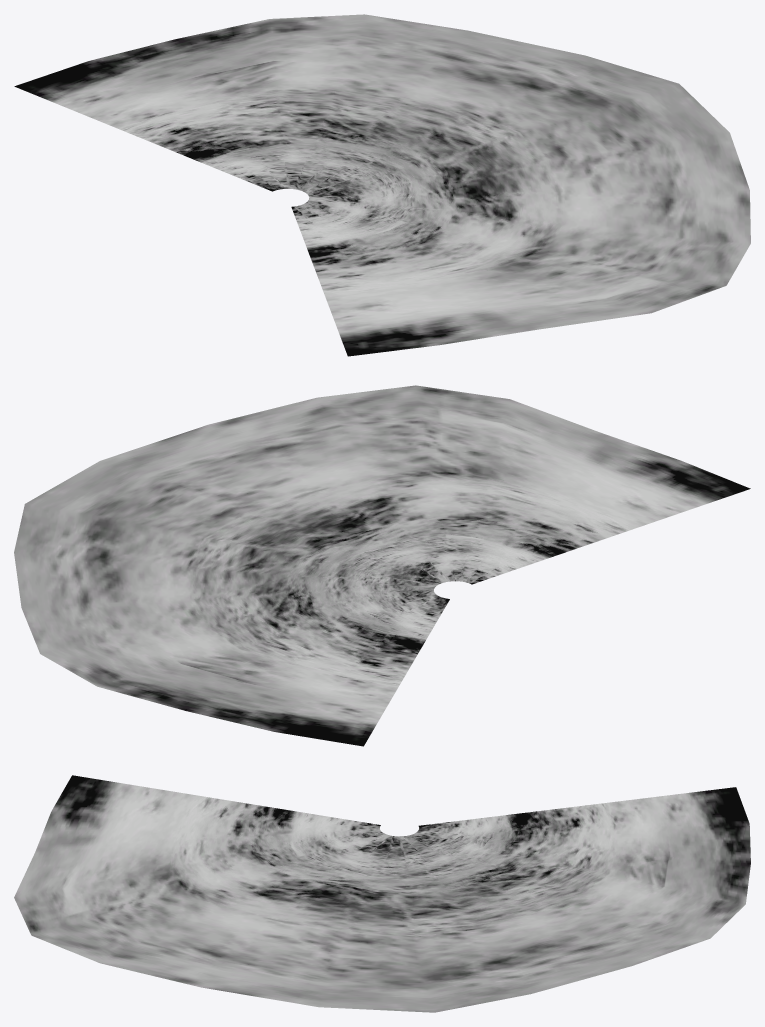
File: waterfalls_set1_low_ripples.obj
3 renders of one model, top to bottom at view 1: azimuth 30°, elevation 25°; view 2: azimuth 150°, elevation 25°; view 3: azimuth 270°, elevation 25°, orthographic. The views are drawn at different scales.
Visible parts, largest first — view 1: waterfalls_set1_low_ripples; view 2: waterfalls_set1_low_ripples; view 3: waterfalls_set1_low_ripples.
Part boxes in pixels (x1,y1,x2,y2): waterfalls_set1_low_ripples: (14,14,750,356); waterfalls_set1_low_ripples: (14,385,750,746); waterfalls_set1_low_ripples: (14,775,750,1012).
Size of the model in its own units: 17.72 by 4.78e-06 by 23.24.
1 material, 1 textured.
